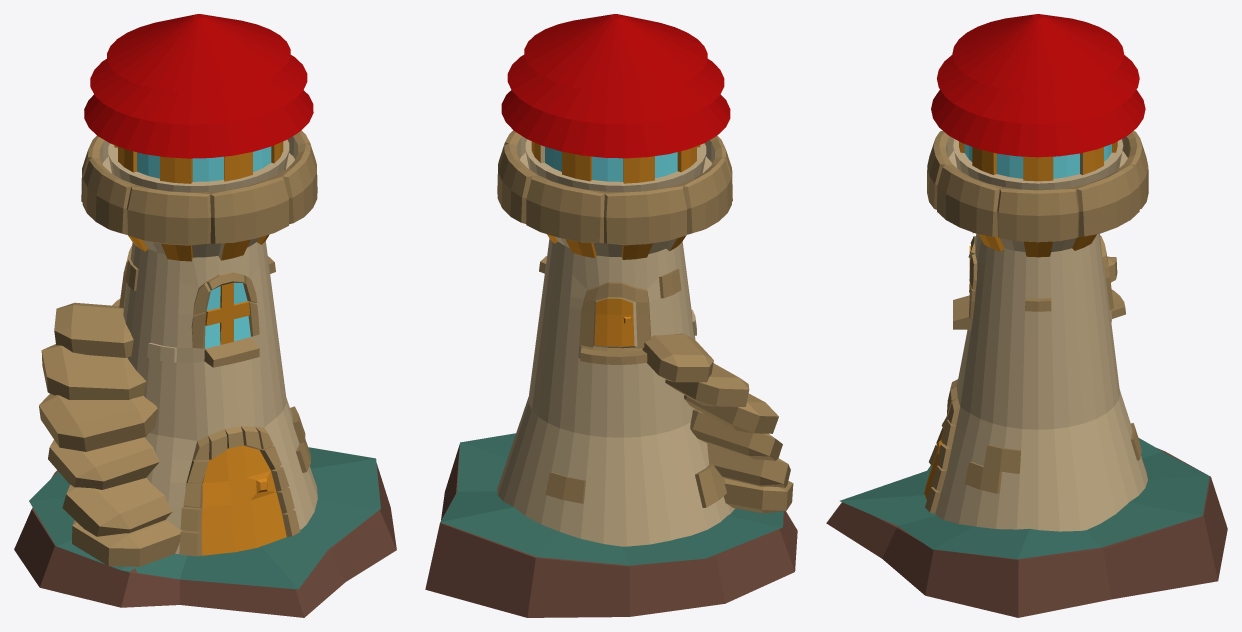
Rendered from AlevliKule2.fbx.
3 views of the same model, side by side, from view 1: azimuth 30°, elevation 25°; view 2: azimuth 150°, elevation 25°; view 3: azimuth 270°, elevation 25° (orthographic). The views are drawn at different scales.
Visible parts, largest first — view 1: Cylinder.007, Cube.003, Circle.007, cımen.006; view 2: Cylinder.007, Circle.007, Cube.003, cımen.006; view 3: Cylinder.007, Circle.007, cımen.006.
Part boxes in pixels (left/top/right/bottom): Cylinder.007: left=81, top=14, right=317, bottom=556; Cube.003: left=39, top=302, right=181, bottom=566; Circle.007: left=14, top=463, right=396, bottom=617; cımen.006: left=29, top=447, right=380, bottom=589; Cylinder.007: left=497, top=14, right=734, bottom=546; Circle.007: left=425, top=445, right=797, bottom=617; Cube.003: left=642, top=333, right=793, bottom=513; cımen.006: left=440, top=433, right=783, bottom=565; Cylinder.007: left=924, top=14, right=1148, bottom=531; Circle.007: left=826, top=448, right=1227, bottom=617; cımen.006: left=840, top=438, right=1209, bottom=559.
Size of the model in its own units: 488 by 705 by 496.
